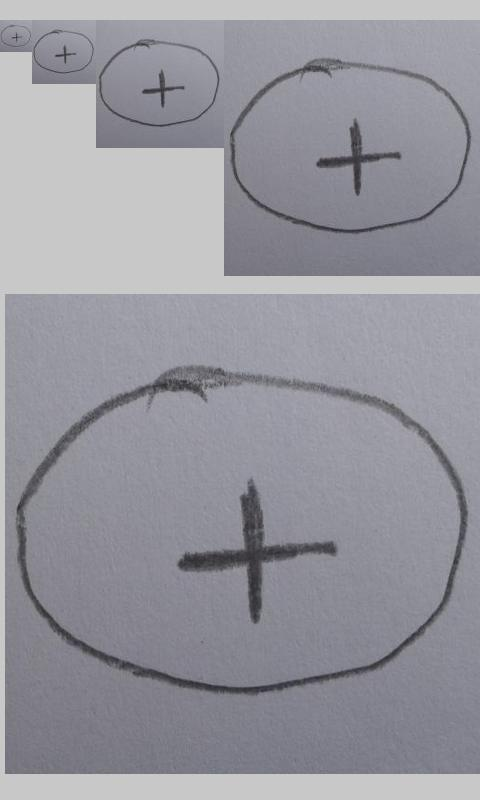button: (13, 363, 469, 698), (229, 57, 473, 235), (98, 38, 220, 127), (33, 29, 95, 74), (1, 24, 31, 47)
